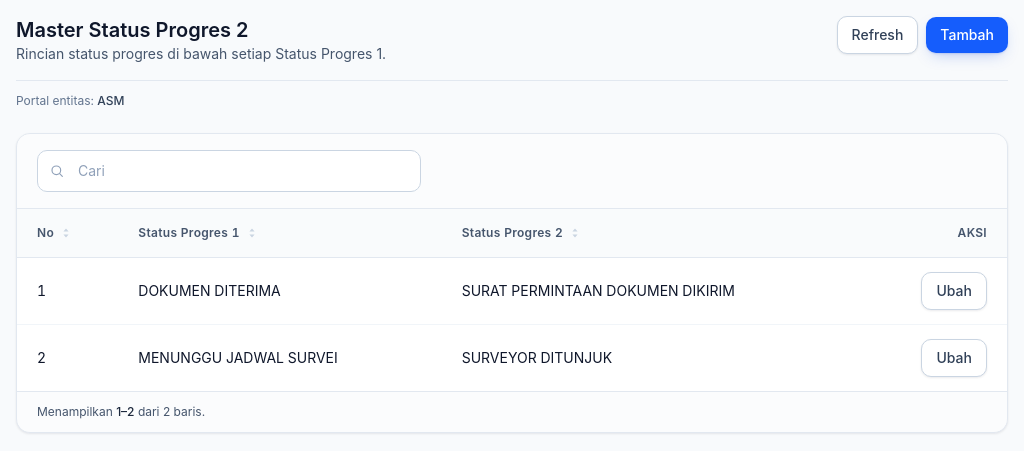
daftar master status progres 2 › tetap dapat dicari lewat kode induk meski kodenya tidak tampil
The width and height of the screenshot is (1024, 451).
Expected: the table is shown, [17,209,1007,391]
Type "02" into the search field at (229, 171), box [37,150,421,192]
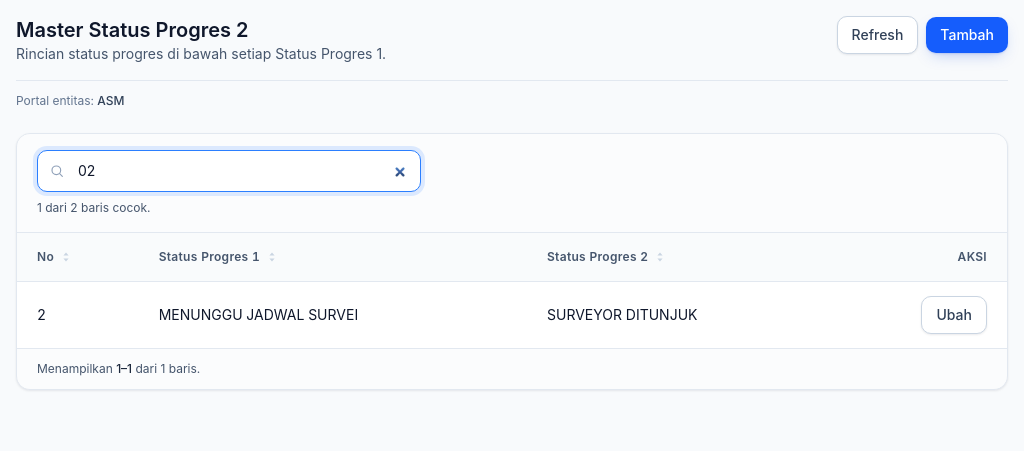
Expected: the text "SURVEYOR DITUNJUK" is shown, [547,306,698,323]
Result: the text "SURAT PERMINTAAN DOKUMEN DIKIRIM" is gone
